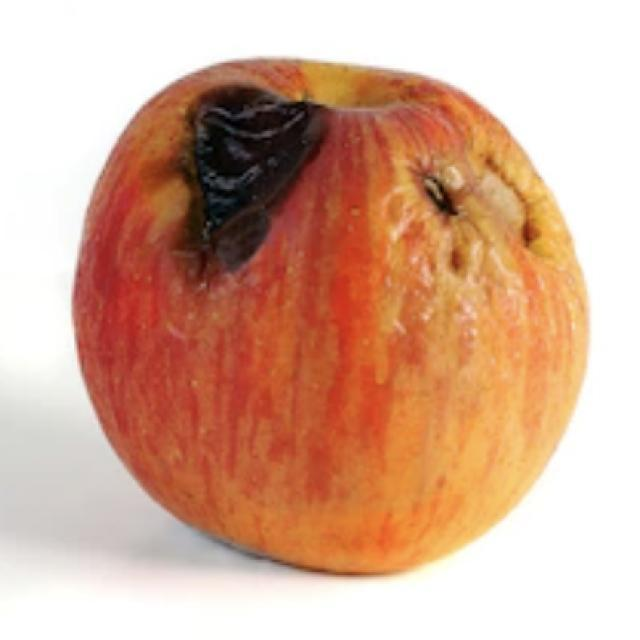Rotten: (67, 50, 600, 587)
